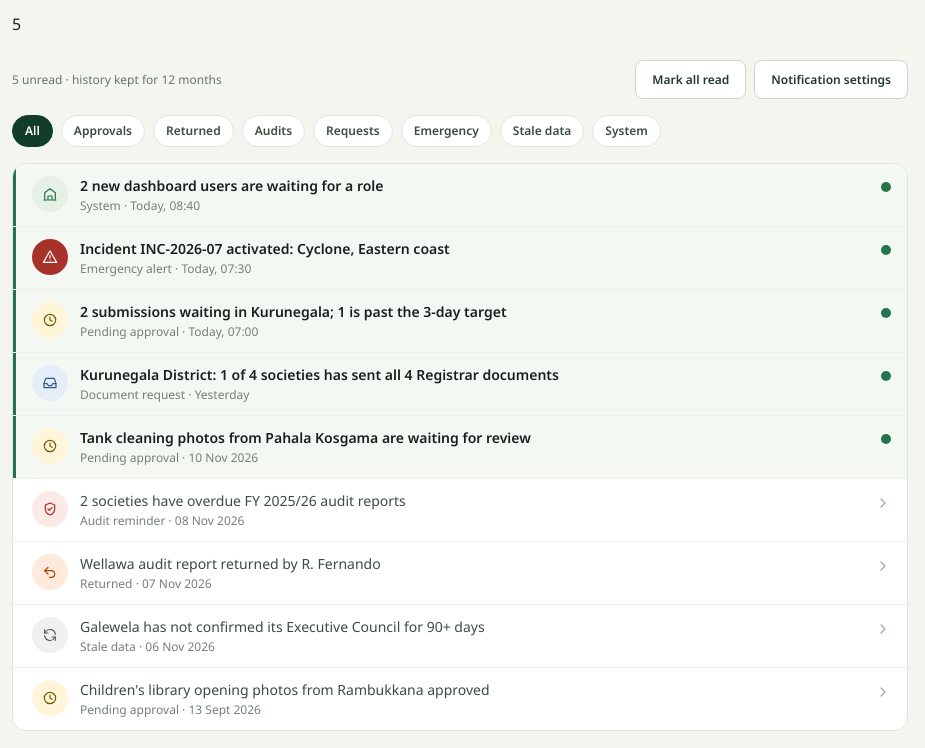
Scenario: NotificationCentre › marks an information-only notification read without leaving the list
The width and height of the screenshot is (925, 748).
Click the button "2 new dashboard users are waiting for a role": x=50, y=194 [13,164,907,226]
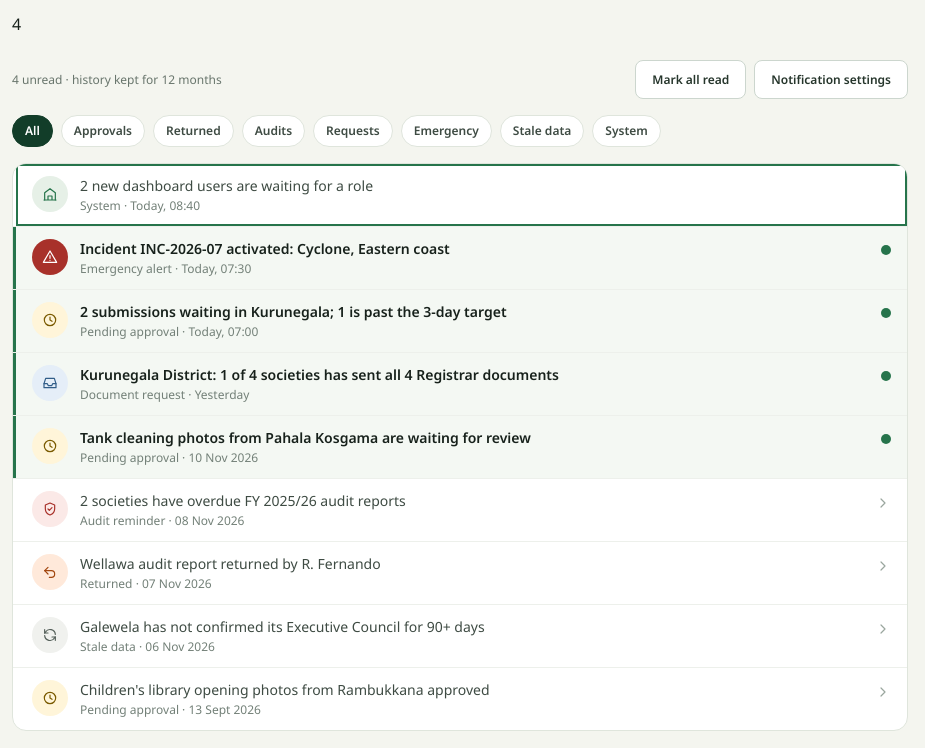
Result: the message shows "4 unread" at [12,71,62,88]
